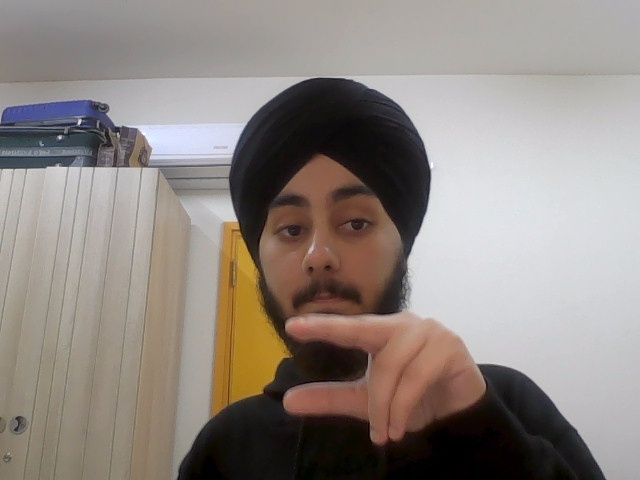No: (284, 311, 488, 446)
